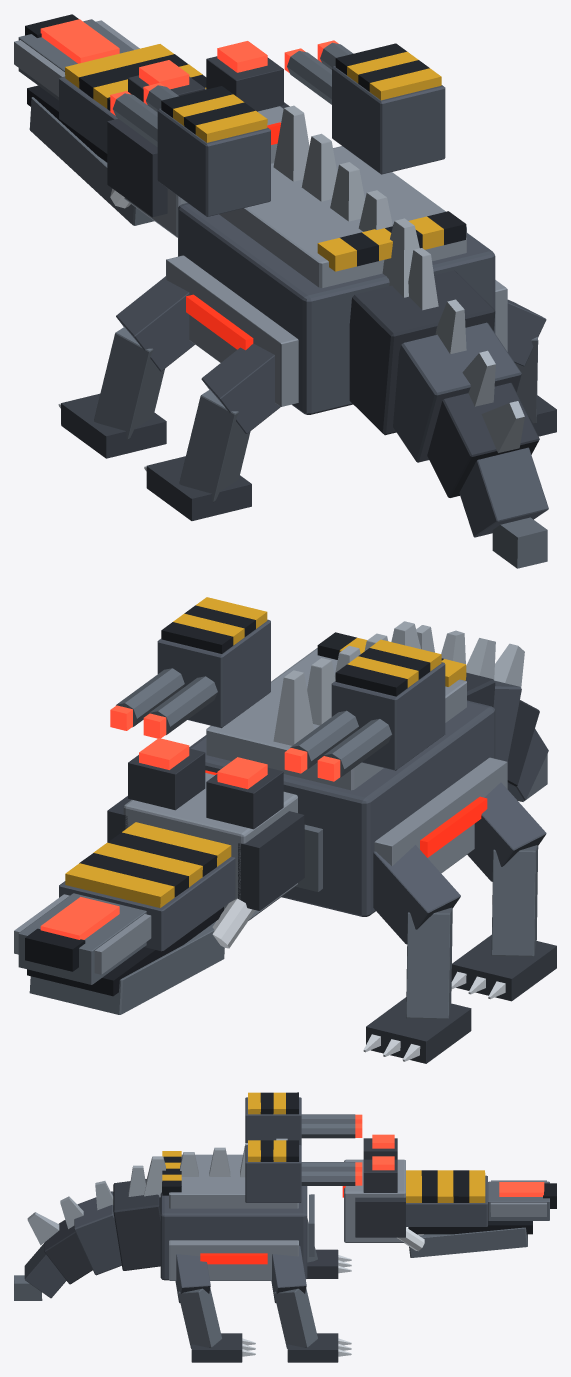
File: mecha-crocodon.glb
3 views of the same model, one above another, from view 1: azimuth 30°, elevation 25°; view 2: azimuth 150°, elevation 25°; view 3: azimuth 270°, elevation 25° (orthographic). The views are drawn at different scales.
Parts seen in each view (by area): view 1: body, tail, head, leg.FR, leg.BR, leg.BL; view 2: body, head, leg.FR, leg.BR, tail; view 3: body, head, tail, leg.FL, leg.BL, leg.FR.
Boxes of the visible parts, box(x1,y1,x2,y2) form: body: box(110, 40, 507, 414); tail: box(349, 248, 548, 568); head: box(14, 14, 289, 237); leg.FR: box(58, 276, 194, 458); leg.BR: box(144, 343, 280, 520); leg.BL: box(507, 299, 556, 436); body: box(110, 597, 507, 916); head: box(14, 738, 304, 1014); leg.FR: box(363, 845, 471, 1063); leg.BR: box(451, 782, 556, 1001); tail: box(416, 625, 548, 801); body: box(144, 1092, 362, 1280); head: box(342, 1134, 556, 1257); tail: box(14, 1165, 160, 1300); leg.FL: box(271, 1245, 351, 1362); leg.BL: box(175, 1254, 255, 1362); leg.FR: box(307, 1218, 351, 1278).
Size of the model in its own units: 1.14 by 1 by 2.62.
